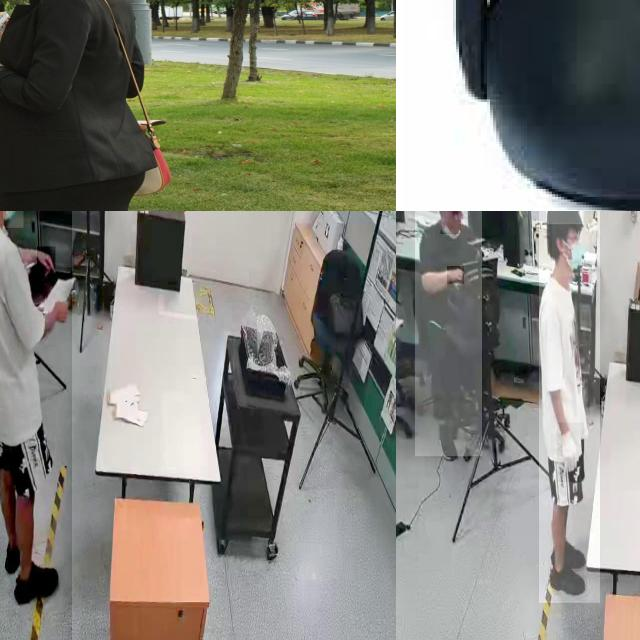Ear-protection: (474, 0, 640, 211)
face_mask: (552, 222, 590, 278), (2, 211, 23, 228)
face_nomask: (440, 211, 461, 235)
hand_glove: (557, 422, 585, 483)
hand_noglove: (52, 292, 70, 328), (37, 246, 56, 278), (447, 266, 465, 285)
head_nohelmet: (546, 211, 584, 225)
person: (0, 211, 72, 640), (539, 211, 600, 603), (415, 211, 482, 457)
shoes: (13, 558, 64, 610), (546, 561, 590, 605), (548, 538, 590, 576), (434, 416, 458, 467)
